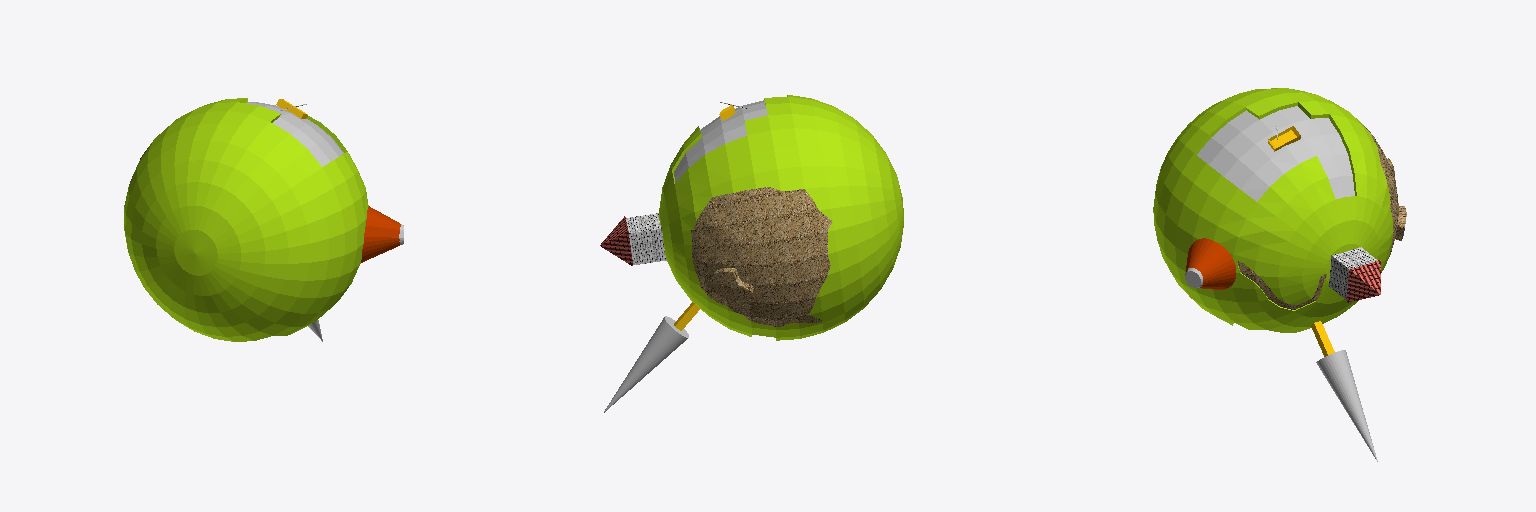
3 views of the same model, side by side, from view 1: azimuth 30°, elevation 25°; view 2: azimuth 150°, elevation 25°; view 3: azimuth 270°, elevation 25° (orthographic).
Parts seen in each view (by area): view 1: Cube.001; view 2: Cube.001; view 3: Cube.001.
Boxes of the visible parts, box(x1,y1,x2,y2) form: Cube.001: box(124, 98, 403, 341); Cube.001: box(600, 95, 903, 412); Cube.001: box(1153, 88, 1406, 461).
Size of the model in its own units: 15.16 by 18.52 by 14.11.
Materials: 9 (6 with a texture image).